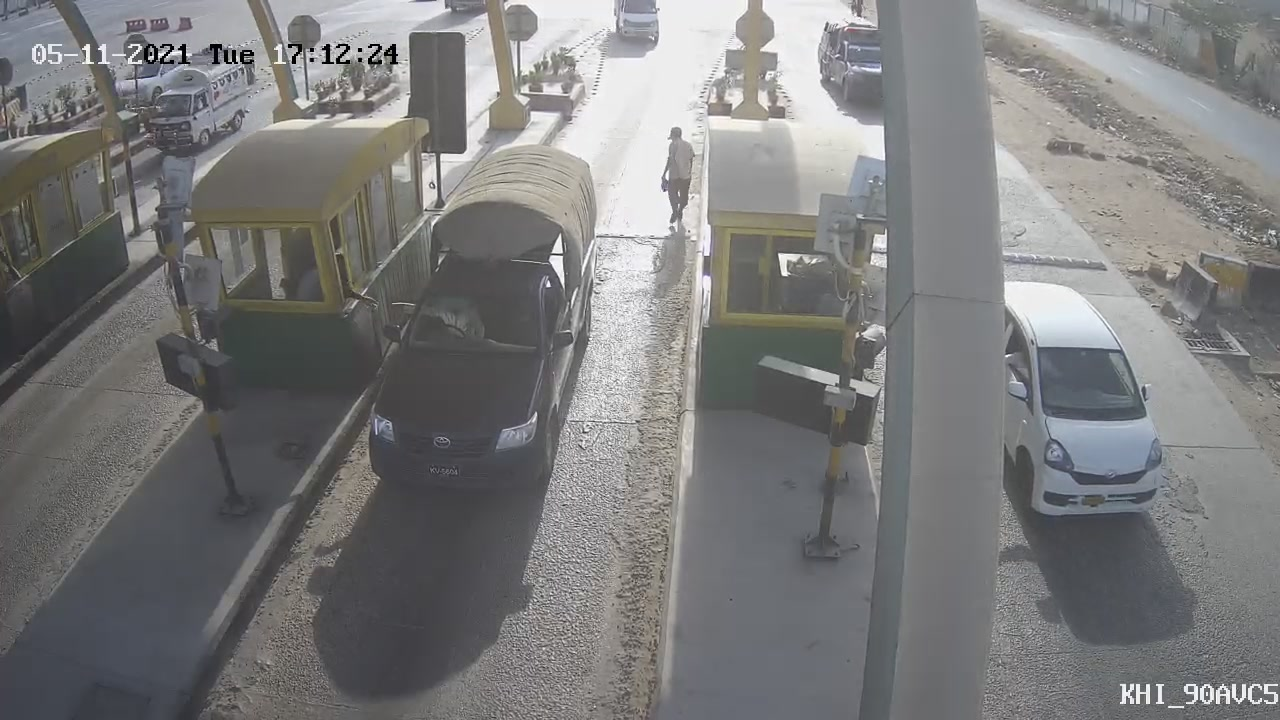F1: (342, 125, 630, 518)
